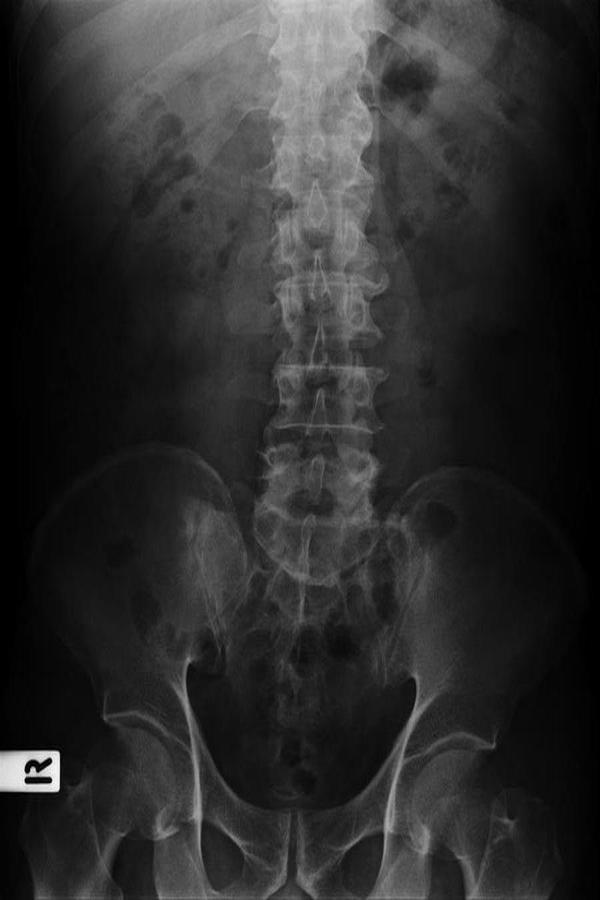lumbar scoliosis: (253, 10, 398, 587)
